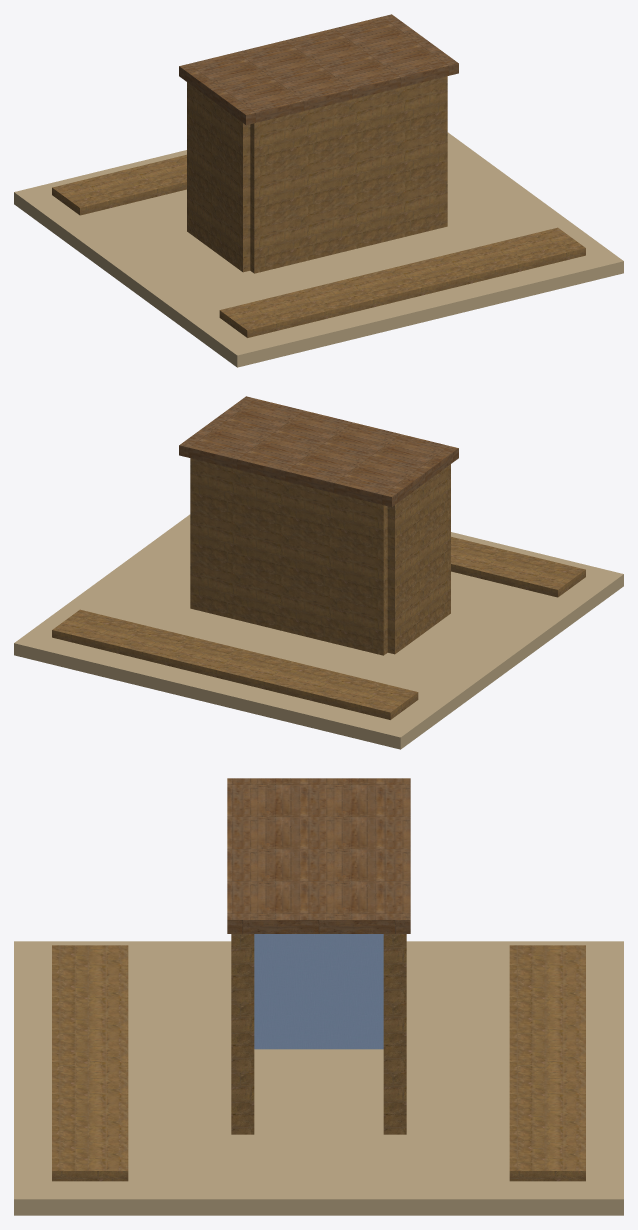
Rendered from templo_visao.glb.
The picture shows the model from 3 angles, top to bottom: view 1: azimuth 30°, elevation 25°; view 2: azimuth 150°, elevation 25°; view 3: azimuth 270°, elevation 25°; orthographic projection. The views are drawn at different scales.
Parts seen in each view (by area): view 1: Base ilustrativa, Parede do santuário.001, Teto, Pátio da visão.001, Parede posterior, Pátio da visão; view 2: Base ilustrativa, Parede do santuário, Teto, Pátio da visão, Parede posterior, Pátio da visão.001; view 3: Base ilustrativa, Teto, Pátio da visão, Pátio da visão.001, Divisão ilustrativa, Parede do santuário, Parede do santuário.001.
Part boxes in pixels (x1,y1,x2,y2): Base ilustrativa: (14, 132, 623, 367); Parede do santuário.001: (250, 76, 447, 273); Teto: (179, 14, 458, 125); Pátio da visão.001: (219, 227, 585, 337); Parede posterior: (187, 82, 250, 272); Pátio da visão: (52, 154, 186, 215); Base ilustrativa: (14, 514, 623, 749); Parede do santuário: (190, 458, 387, 655); Teto: (179, 396, 458, 507); Pátio da visão: (52, 609, 418, 719); Parede posterior: (387, 464, 450, 654); Pátio da visão.001: (451, 536, 585, 597); Base ilustrativa: (14, 941, 623, 1215); Teto: (227, 778, 410, 933); Pátio da visão: (509, 945, 585, 1181); Pátio da visão.001: (52, 945, 128, 1181); Divisão ilustrativa: (254, 934, 383, 1049); Parede do santuário: (383, 934, 406, 1134); Parede do santuário.001: (231, 934, 254, 1134).
Bounding box in the file's own units: 8 × 3.44 × 8.
4 materials, 3 textured.
